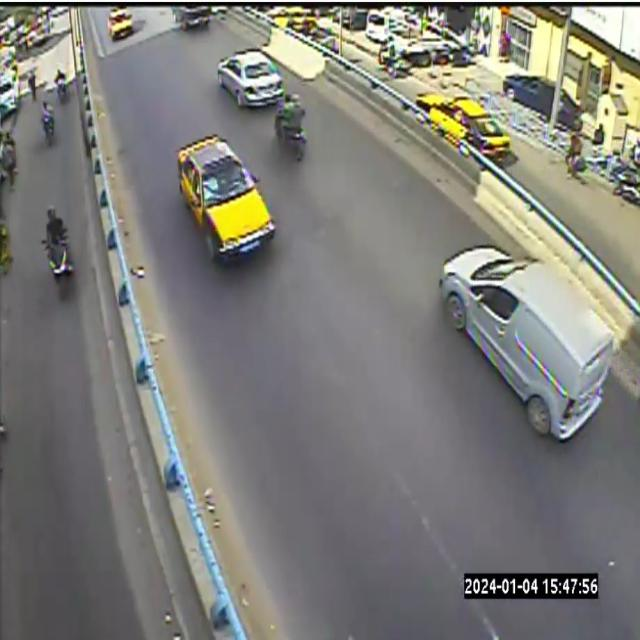car: (432, 218, 614, 454), (168, 132, 279, 278), (217, 49, 284, 106), (502, 75, 554, 120), (0, 70, 19, 122), (558, 89, 582, 130), (0, 70, 18, 121)
